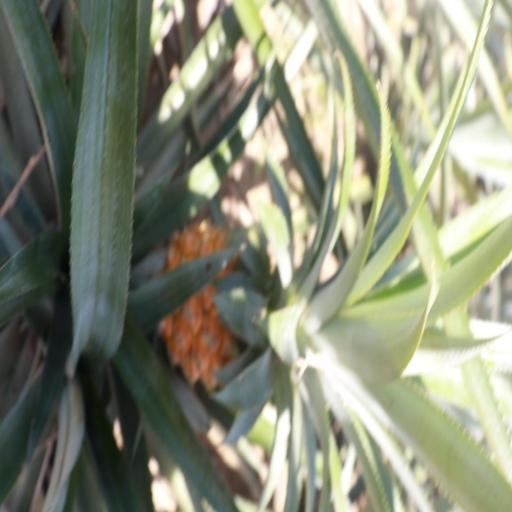Pineapple - v8 v1: (164, 224, 434, 384)
